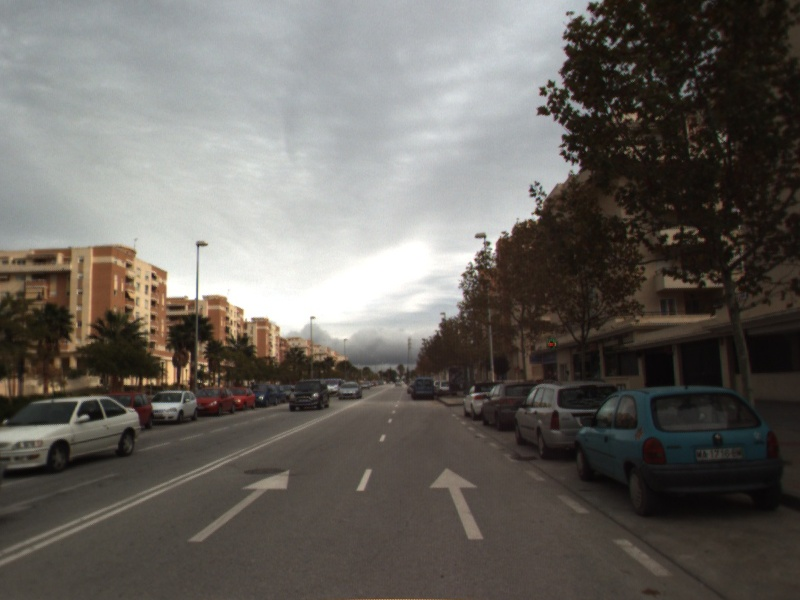STRAIGHT: (185, 468, 291, 544), (427, 465, 486, 541)
